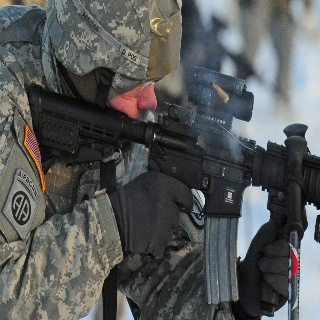rifle: (27, 62, 320, 307)
